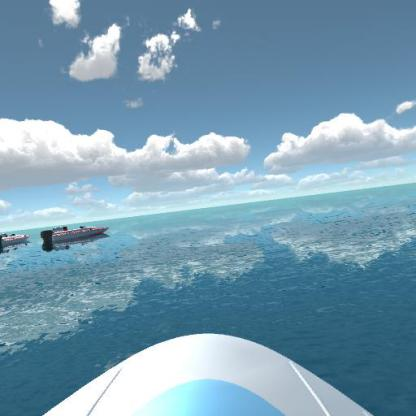usv3: (38, 220, 115, 249), (0, 228, 34, 256)
